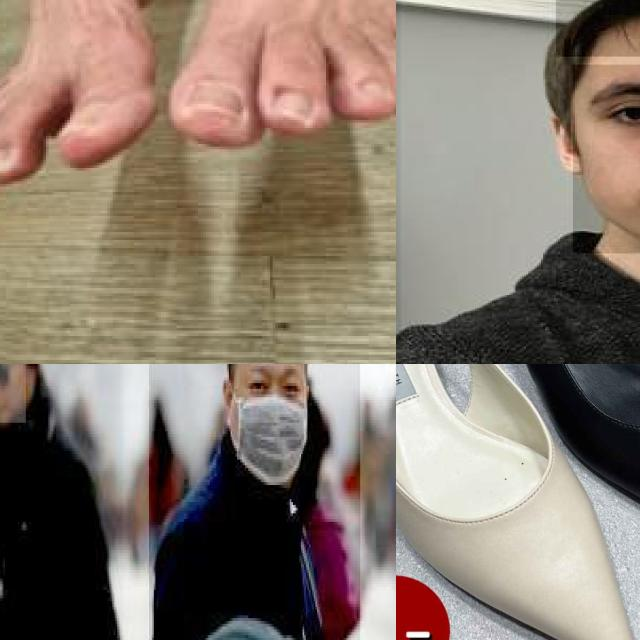Barefoots: (0, 0, 180, 204), (189, 0, 396, 174)
No_Ear-Protection: (540, 103, 591, 181)
No_Glasses: (592, 60, 640, 149), (234, 364, 307, 404)
Sandals: (396, 364, 640, 640), (449, 364, 640, 580)
face_mask: (230, 364, 310, 484)
face_nomask: (572, 64, 640, 253), (0, 364, 27, 425)
glasses: (0, 364, 14, 393)
head_nohelmet: (556, 0, 640, 56)
person: (400, 0, 640, 364), (149, 364, 362, 640), (0, 364, 124, 640)
